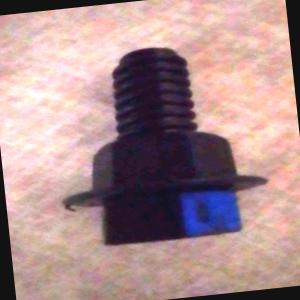parafuso: (46, 36, 273, 251)
